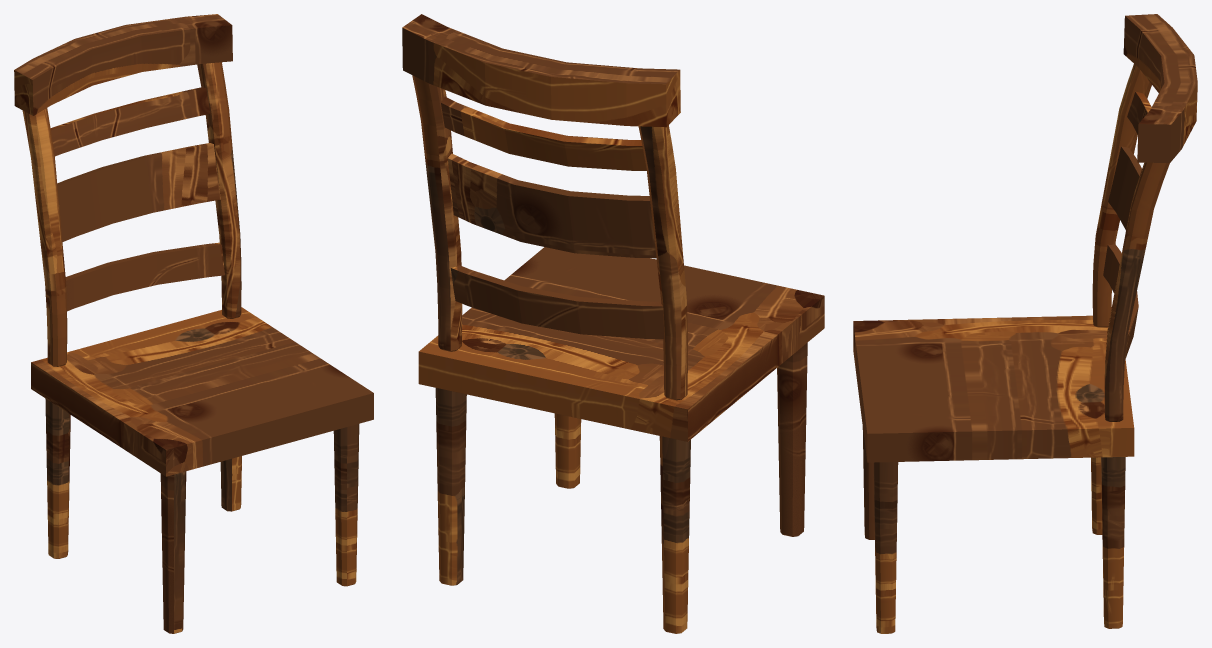
Rendered from chair.fbx.
3 renders of one model, left to right at view 1: azimuth 30°, elevation 25°; view 2: azimuth 150°, elevation 25°; view 3: azimuth 270°, elevation 25°, orthographic. The views are drawn at different scales.
Parts seen in each view (by area): view 1: chair_low; view 2: chair_low; view 3: chair_low.
Part boxes in pixels (x1,y1,x2,y2): chair_low: [14, 14, 373, 633]; chair_low: [402, 14, 824, 633]; chair_low: [853, 14, 1197, 633].
Size of the model in its own units: 1.99 by 3.96 by 2.44.
